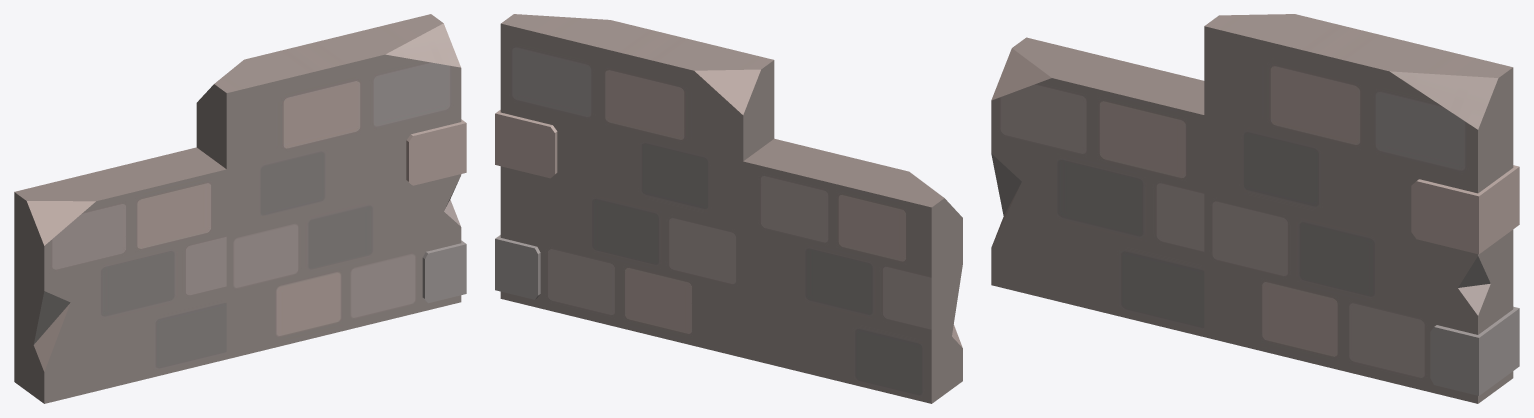
Rendered from SM_SmallWall_06.fbx.
3 renders of one model, left to right at view 1: azimuth 30°, elevation 25°; view 2: azimuth 150°, elevation 25°; view 3: azimuth 330°, elevation 25°, orthographic. The views are drawn at different scales.
Parts seen in each view (by area): view 1: SM_SmallWall_06; view 2: SM_SmallWall_06; view 3: SM_SmallWall_06.
Part boxes in pixels (x1=…): SM_SmallWall_06: x1=14, y1=14, x2=466, y2=403; SM_SmallWall_06: x1=495, y1=14, x2=962, y2=403; SM_SmallWall_06: x1=991, y1=14, x2=1519, y2=403.
Size of the model in its own units: 1.98 by 1.2 by 0.2843.
